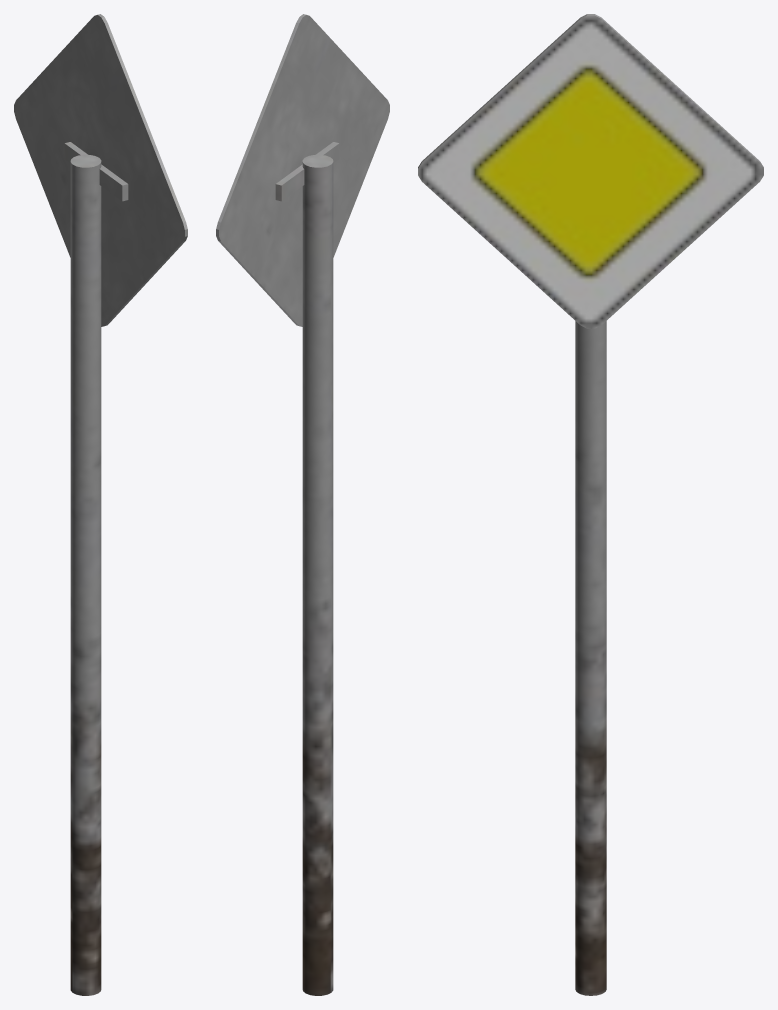
Rendered from sg_main.glb.
3 views of the same model, side by side, from view 1: azimuth 30°, elevation 25°; view 2: azimuth 150°, elevation 25°; view 3: azimuth 270°, elevation 25° (orthographic).
Visible parts, largest first — view 1: body|signs; view 2: body|signs; view 3: body|signs.
Part boxes in pixels (x1=…): body|signs: x1=14, y1=14, x2=187, y2=995; body|signs: x1=216, y1=14, x2=389, y2=995; body|signs: x1=418, y1=14, x2=763, y2=995.
Size of the model in its own units: 0.0758 by 2.34 by 0.7475.
1 material, 1 textured.
